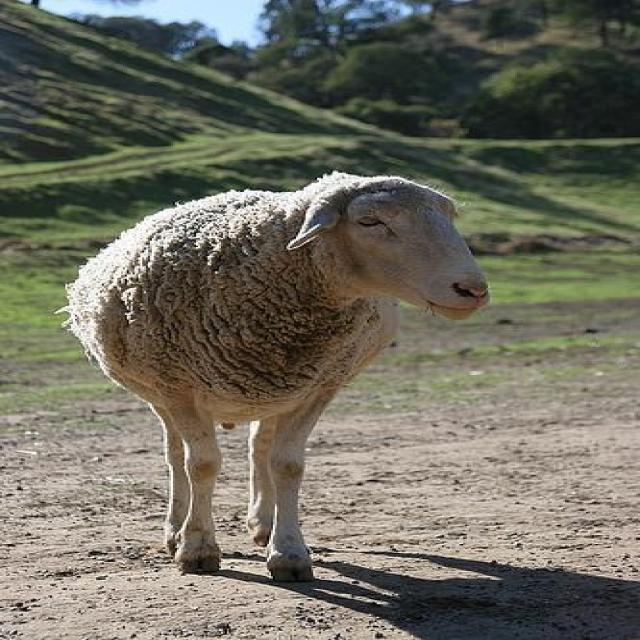Sheep: (58, 173, 492, 516)
